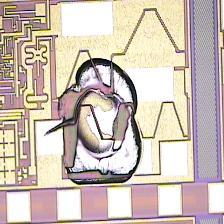PARTICLE: (55, 55, 149, 190)
